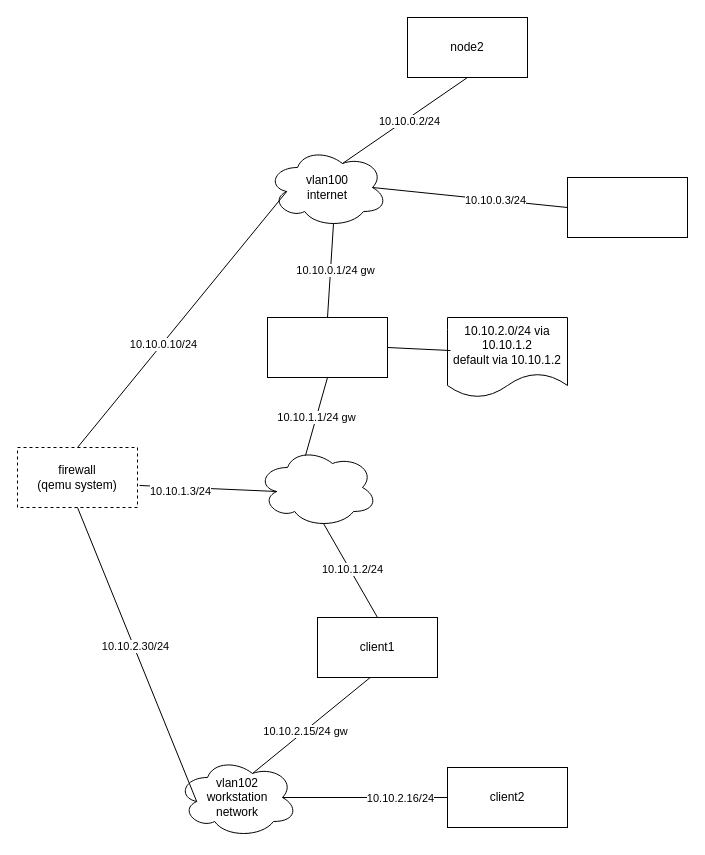
Some shapes in this 705 by 855 pixel diagram are drawn without their labels. Each missing label, with the centre of its shape:
"node3" goes at pixel 627 207.
"router1" goes at pixel 327 347.
"vlan101 main network" goes at pixel 317 487.
